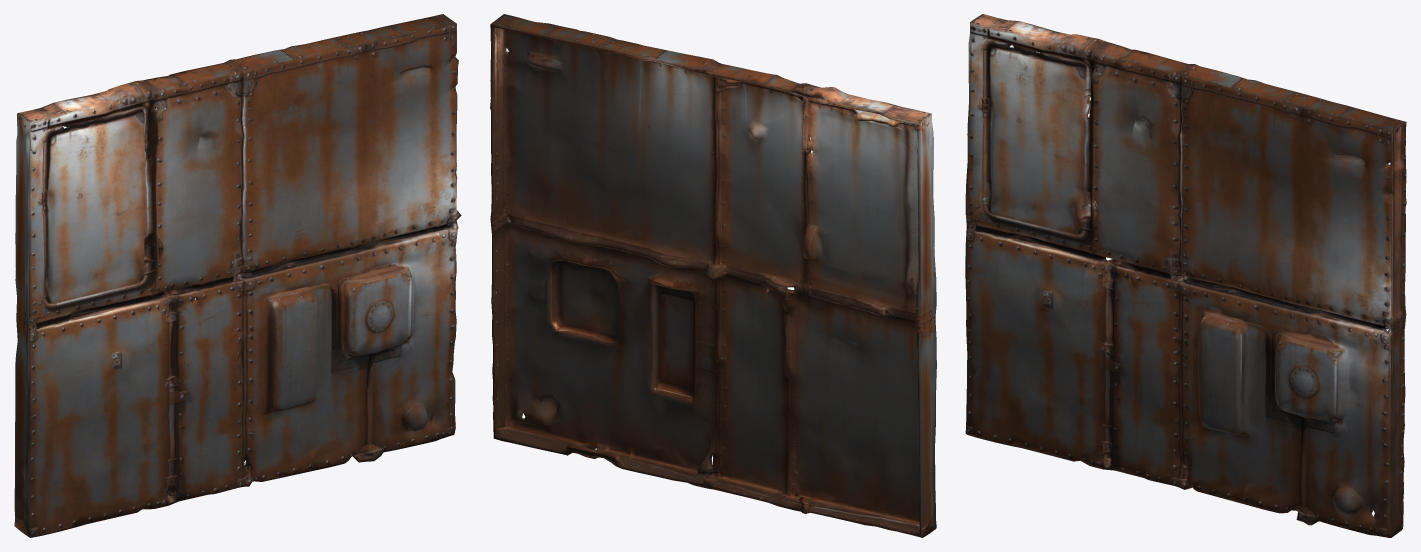
Rendered from Wall01.glb.
The picture shows the model from 3 angles, left to right: view 1: azimuth 30°, elevation 25°; view 2: azimuth 150°, elevation 25°; view 3: azimuth 330°, elevation 25°; orthographic projection.
Size of the model in its own units: 2 by 1.88 by 0.2128.
Materials: 1 (1 with a texture image).
